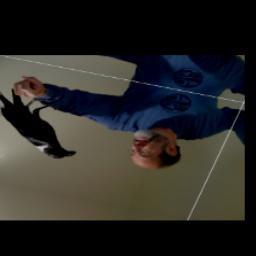Crow: (0, 85, 99, 164)
